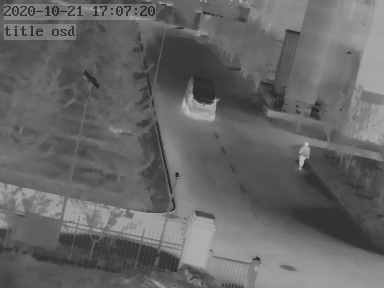person: (297, 140, 310, 170)
vehicle: (180, 76, 220, 120)
